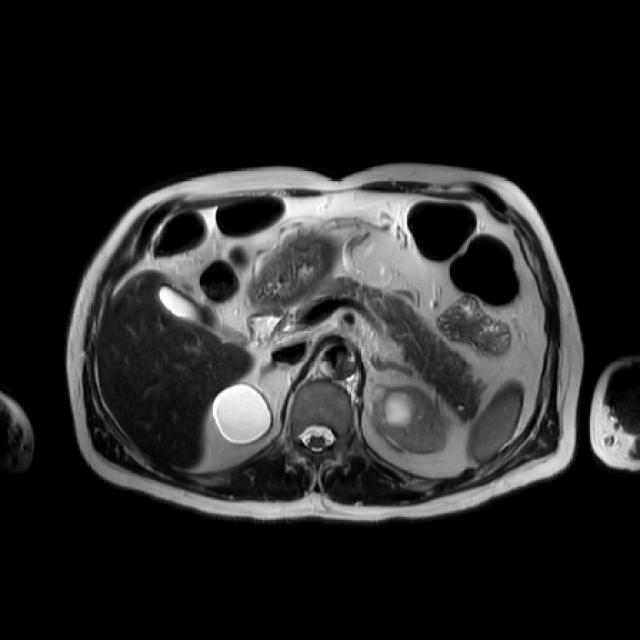sag: (212, 383, 272, 445)
sol: (366, 384, 451, 456)
